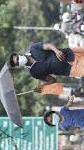mask: (44, 111, 63, 127), (10, 53, 30, 68)
